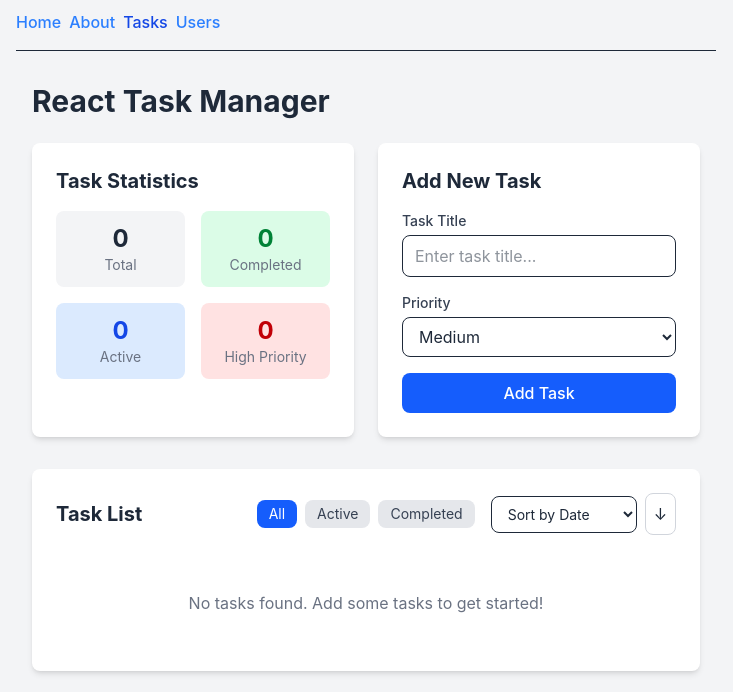
Test: TaskPage › タスク追加機能 › 新しいタスクを追加できる
In the field labelled "Task Title": x=539, y=256 [402,235,676,277], type "テストタスク"
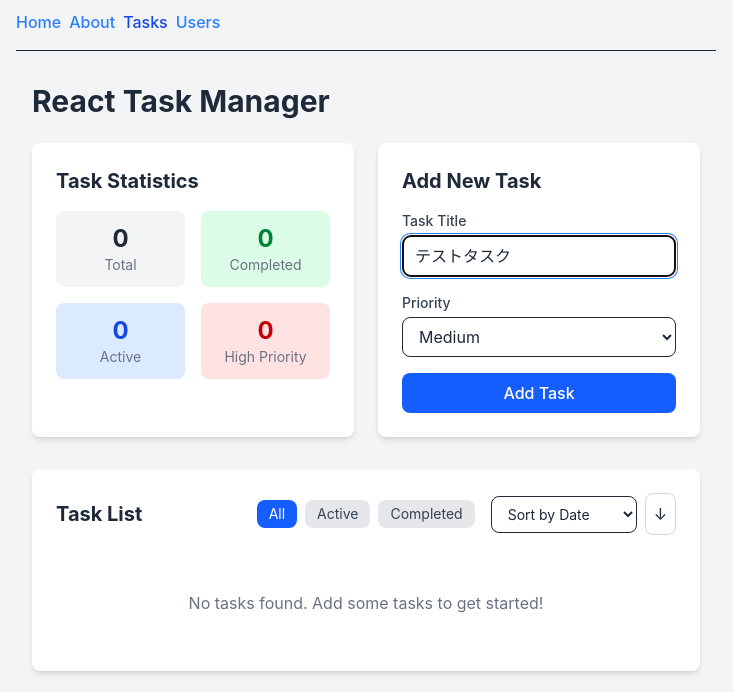
Click the button "Add Task": x=539, y=393 [402,373,676,413]
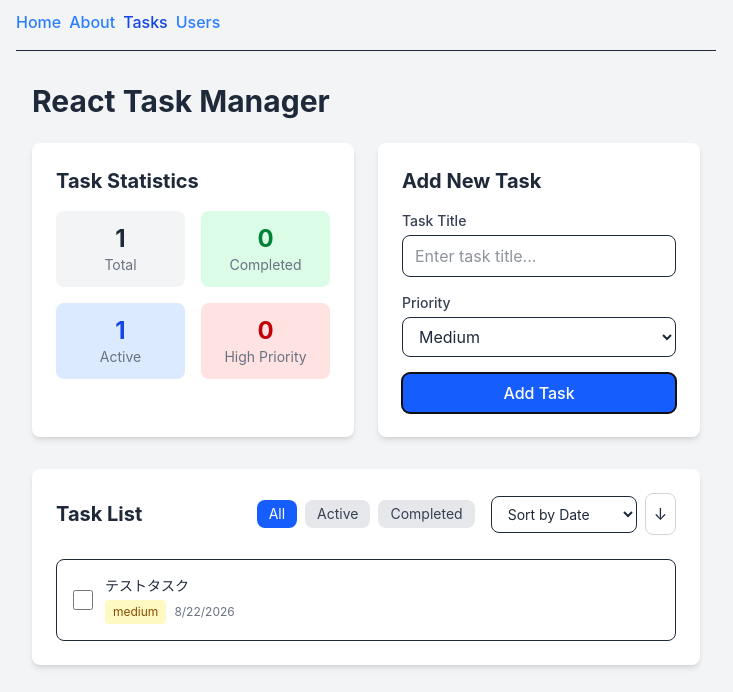
Now the text "テストタスク" is shown, box [105,577,189,594]
